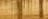Corrosion: (16, 1, 22, 19), (38, 1, 43, 19)
